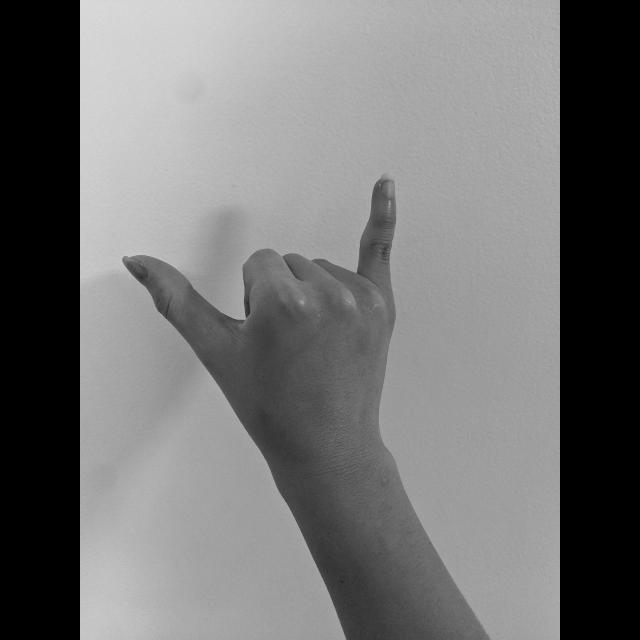Y: (118, 168, 404, 458)
